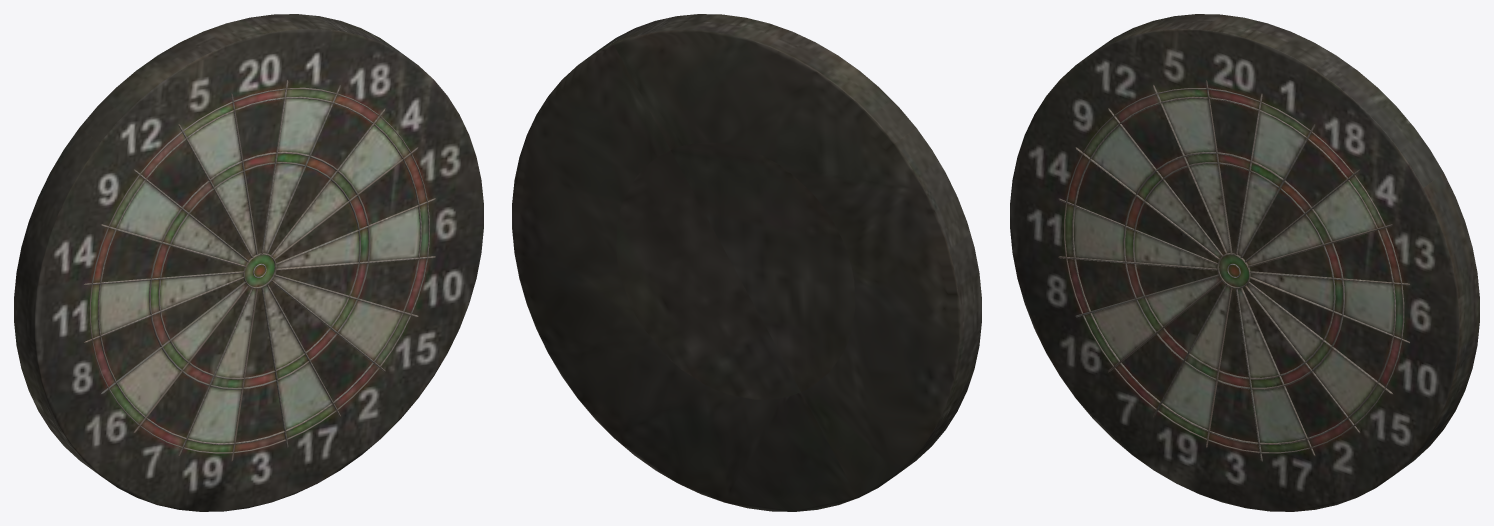
The model's file is th_dartscheibe.glb.
The picture shows the model from 3 angles, left to right: view 1: azimuth 30°, elevation 25°; view 2: azimuth 150°, elevation 25°; view 3: azimuth 330°, elevation 25°; orthographic projection.
Parts seen in each view (by area): view 1: dartboard; view 2: dartboard; view 3: dartboard.
Boxes of the visible parts, left/top/right/bottom form: dartboard: left=14, top=14, right=483, bottom=511; dartboard: left=512, top=14, right=981, bottom=511; dartboard: left=1010, top=14, right=1479, bottom=511.
Size of the model in its own units: 0.4507 by 0.4507 by 0.0398.
Materials: 1 (1 with a texture image).
